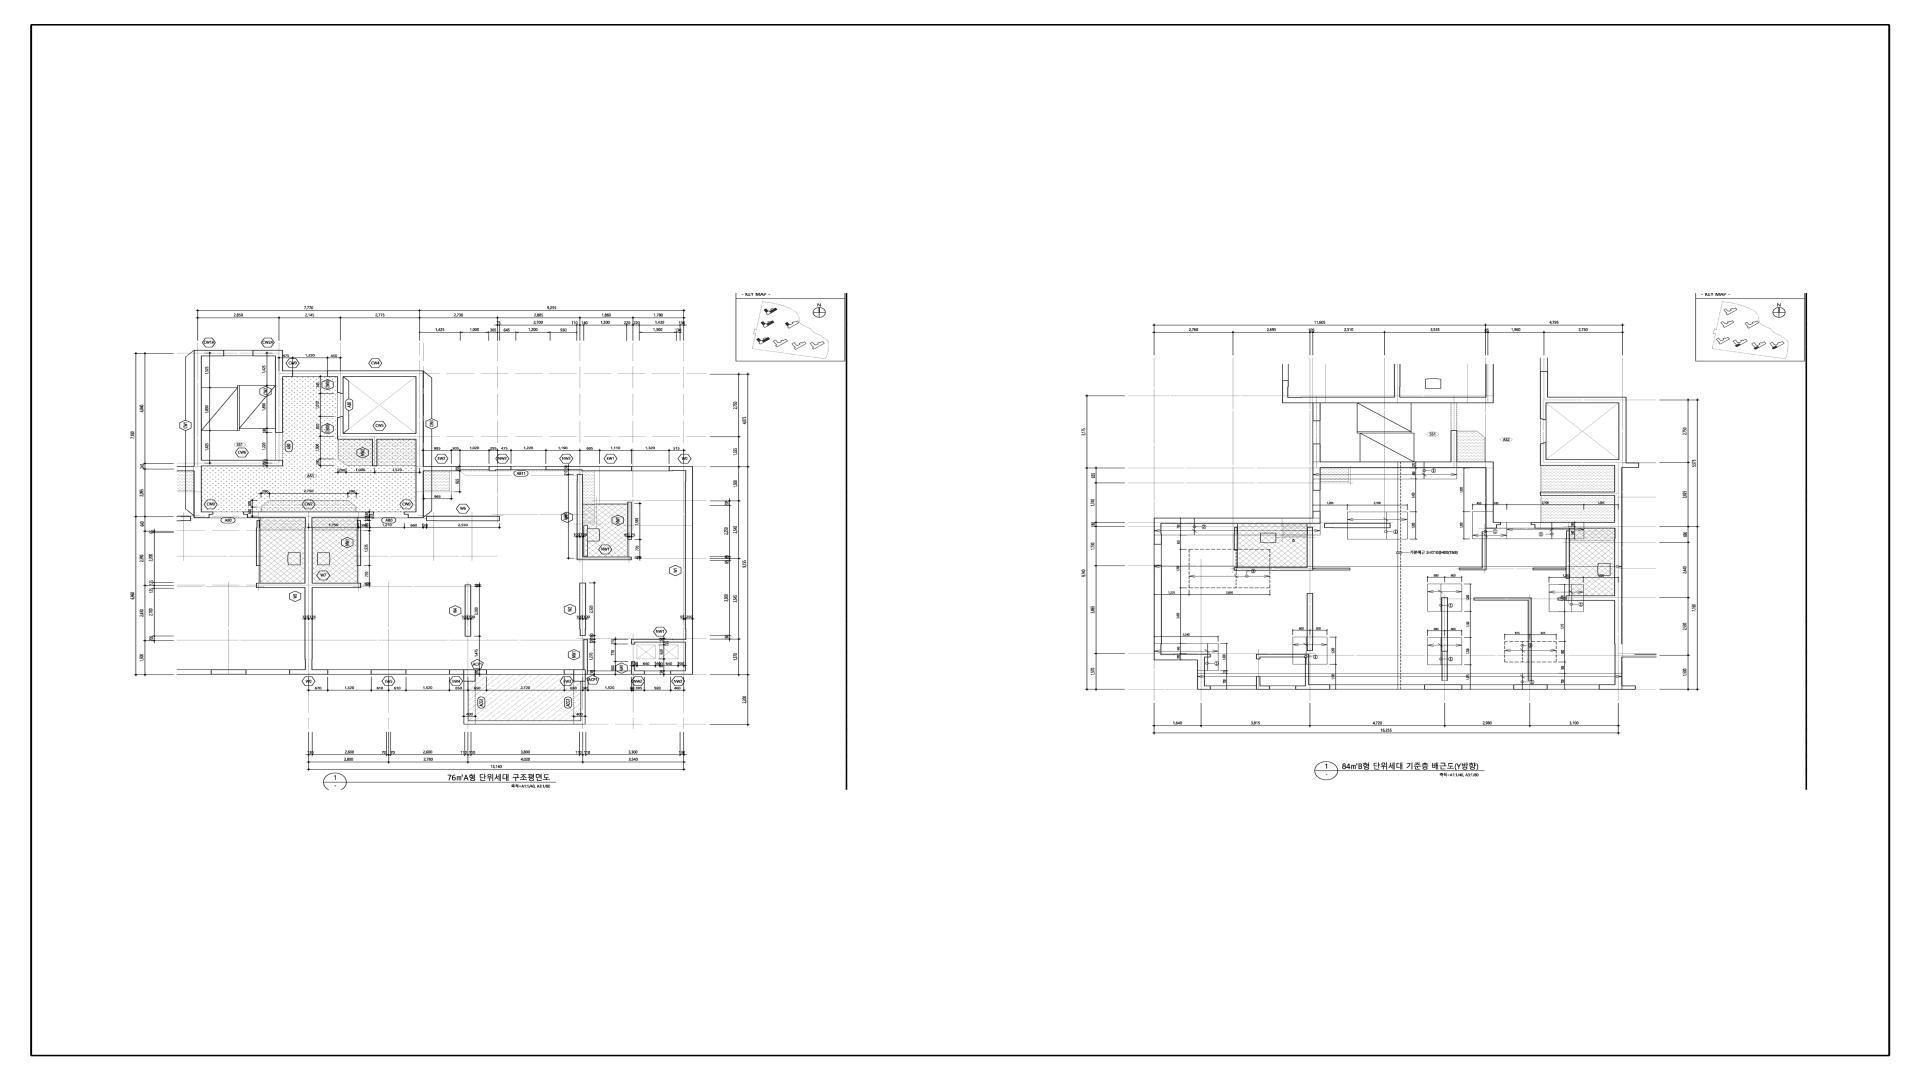wall: (1614, 468, 1622, 684), (686, 465, 694, 671), (1282, 397, 1494, 404), (194, 356, 202, 512), (305, 518, 313, 670), (1312, 462, 1494, 468), (415, 377, 423, 512), (243, 512, 375, 518), (1162, 518, 1313, 524), (1154, 564, 1162, 655), (327, 371, 423, 377), (276, 356, 284, 433), (1531, 522, 1614, 529), (202, 460, 284, 467), (576, 475, 583, 556), (1548, 397, 1626, 404), (344, 433, 415, 439), (546, 465, 632, 471), (1618, 404, 1626, 460), (1547, 459, 1614, 465), (1486, 468, 1494, 522), (426, 516, 500, 521), (1307, 593, 1313, 651), (1154, 654, 1211, 661), (1441, 597, 1448, 651), (1324, 524, 1391, 529), (464, 584, 471, 637), (579, 583, 585, 636), (1528, 600, 1532, 680), (1234, 567, 1313, 571), (1307, 527, 1313, 567), (313, 583, 361, 588), (1565, 530, 1571, 579), (1614, 459, 1639, 468), (1474, 597, 1532, 601), (576, 556, 632, 560), (1154, 518, 1162, 545), (1424, 684, 1462, 690), (194, 349, 224, 356), (253, 349, 284, 356), (1197, 661, 1205, 686), (450, 670, 487, 675), (423, 465, 460, 471), (1600, 684, 1636, 690), (1261, 654, 1309, 658), (1441, 651, 1448, 680), (371, 670, 406, 675), (1295, 684, 1331, 690), (1540, 397, 1548, 421), (357, 520, 361, 566), (1514, 684, 1548, 690), (1312, 468, 1320, 491), (583, 640, 588, 670), (338, 417, 344, 439), (1540, 443, 1547, 465), (372, 439, 377, 467), (628, 502, 632, 539), (1482, 531, 1486, 568), (1312, 404, 1320, 421), (1312, 444, 1320, 462), (636, 640, 686, 642), (194, 512, 214, 518), (404, 512, 423, 518), (305, 670, 328, 675), (564, 670, 588, 675), (489, 465, 512, 471), (338, 377, 344, 394), (1312, 510, 1320, 524), (1305, 658, 1309, 684), (1313, 568, 1350, 571), (1486, 522, 1501, 529), (670, 671, 694, 675), (1234, 527, 1238, 551), (669, 465, 686, 471), (1532, 568, 1565, 571), (1460, 568, 1486, 571), (284, 371, 293, 377), (632, 671, 645, 675), (1197, 686, 1211, 690), (1257, 686, 1270, 690), (632, 661, 636, 671), (1257, 676, 1261, 686), (632, 640, 636, 645), (1257, 654, 1261, 659)
